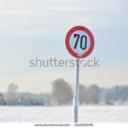speed_limit_70: (64, 24, 96, 60)
